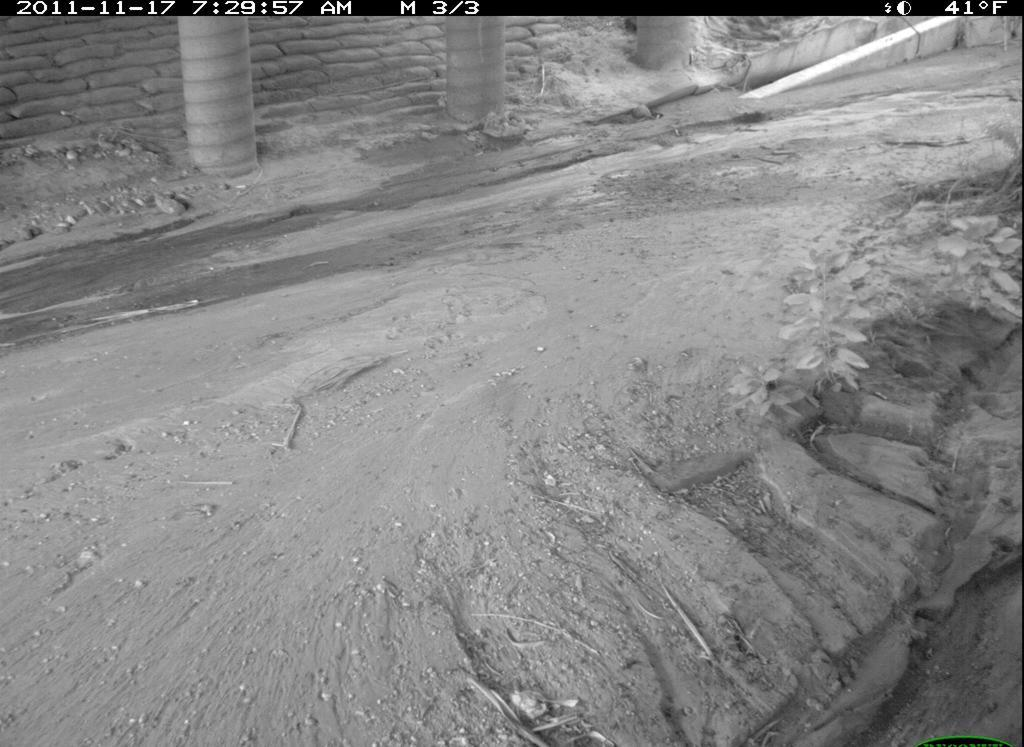bobcat: (473, 117, 548, 161), (624, 93, 680, 134)
